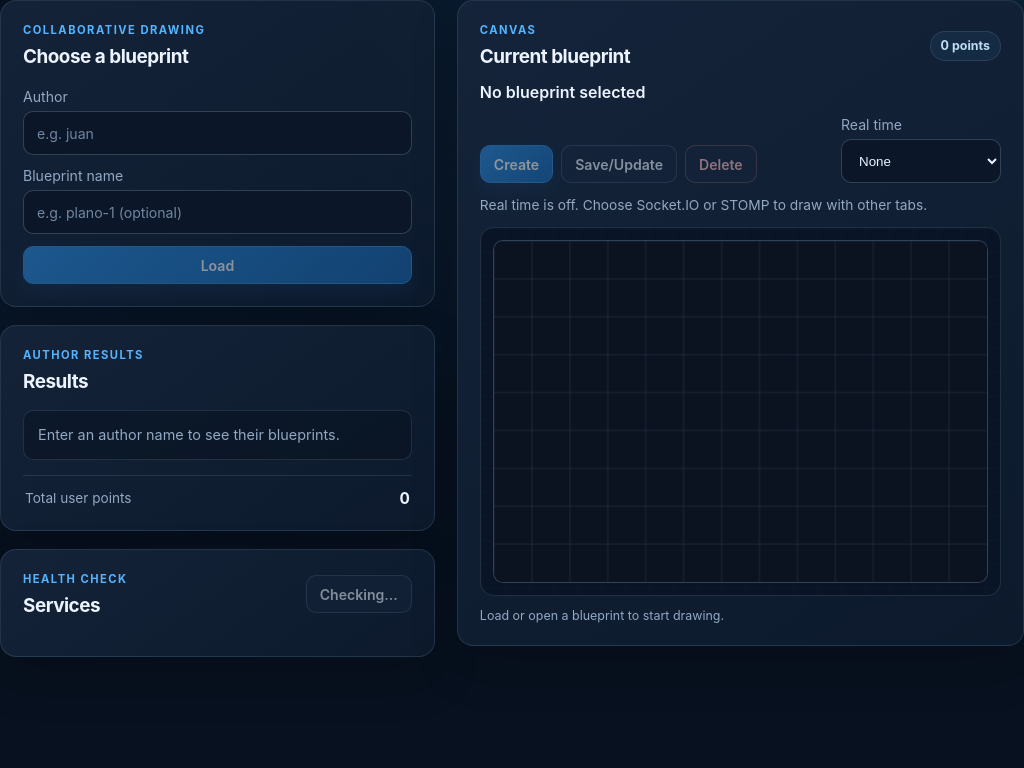
RealtimeBlueprintPage › initial state: opening a blueprint loads its points from the API
Type "juan" into the field with placeholder "e.g. juan" at (217, 133), box [23,111,412,155]
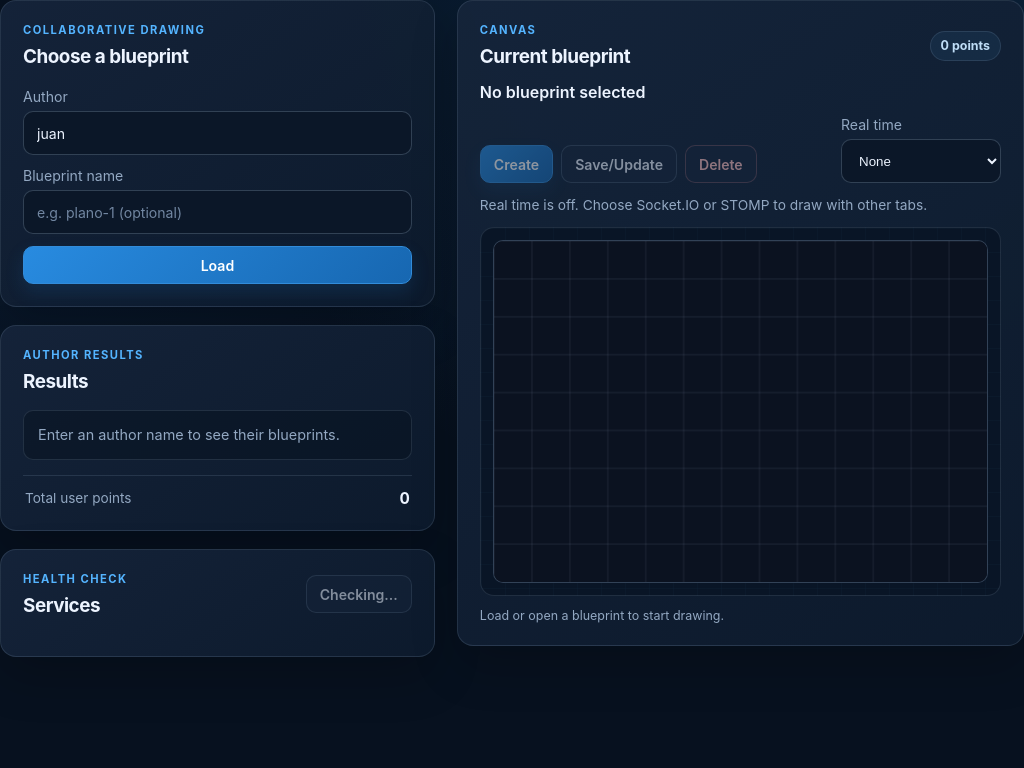
Type "plano-1" into the field with placeholder "e.g. plano-1 (optional)" at (217, 212), box [23,190,412,234]
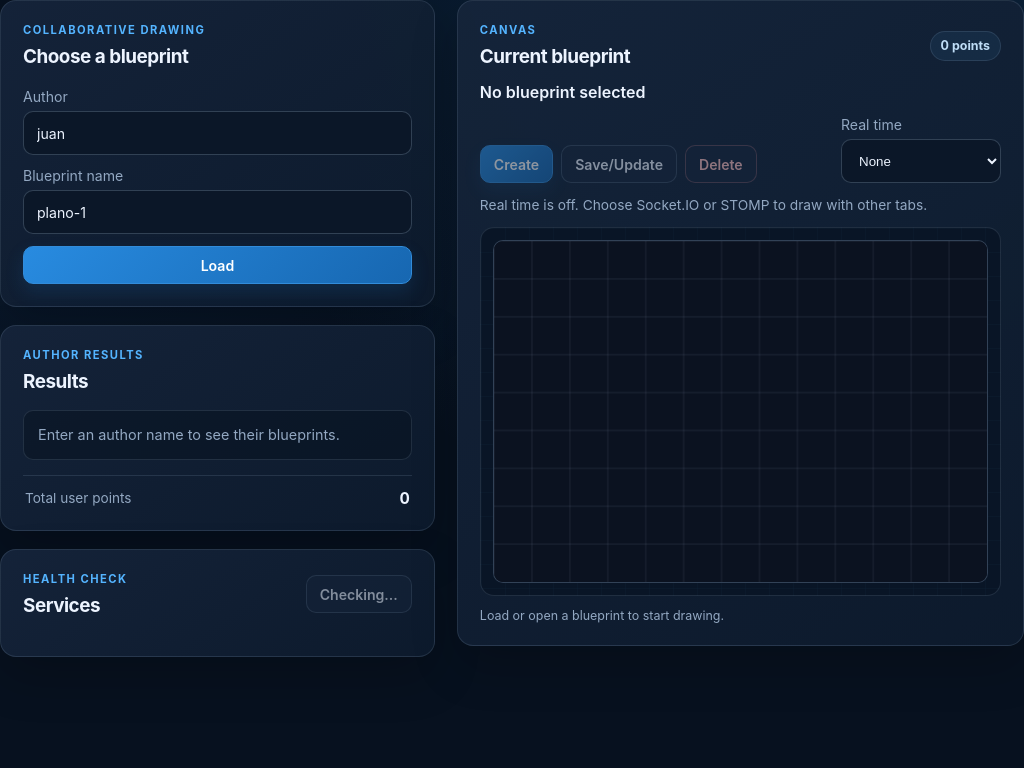
Click the button "Load" at (217, 265), box [23,246,412,284]
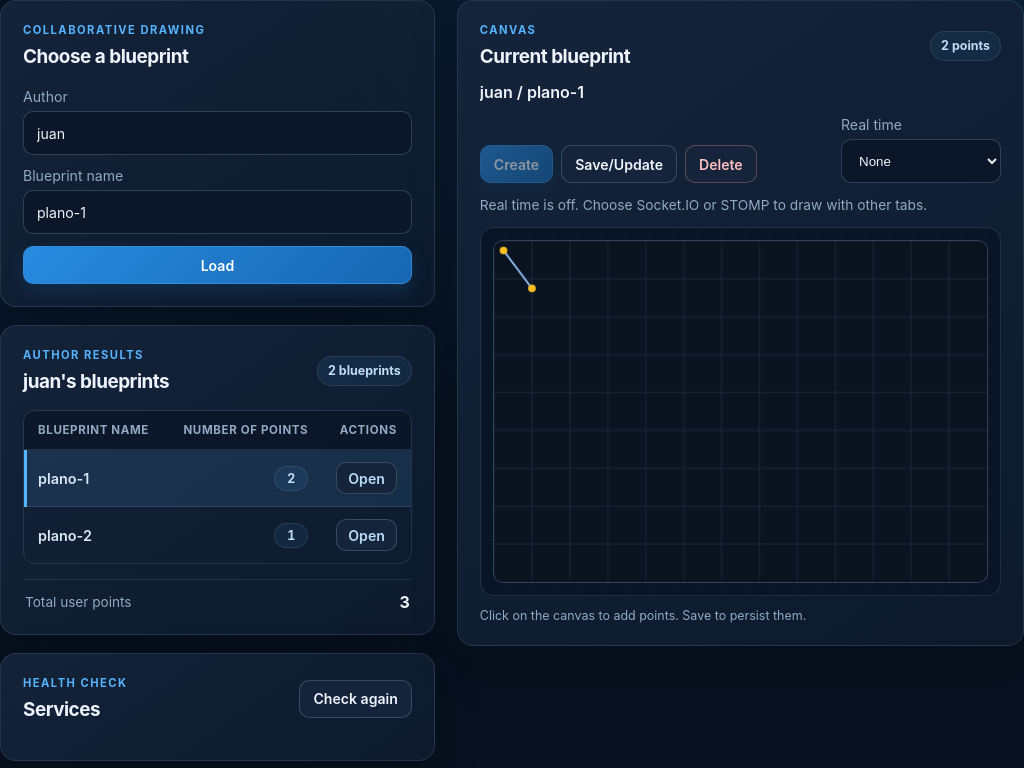
Now the text "2 points" is shown, box [930,30,1001,60]
Now the text "plano-2" is shown, box [24,506,166,563]
